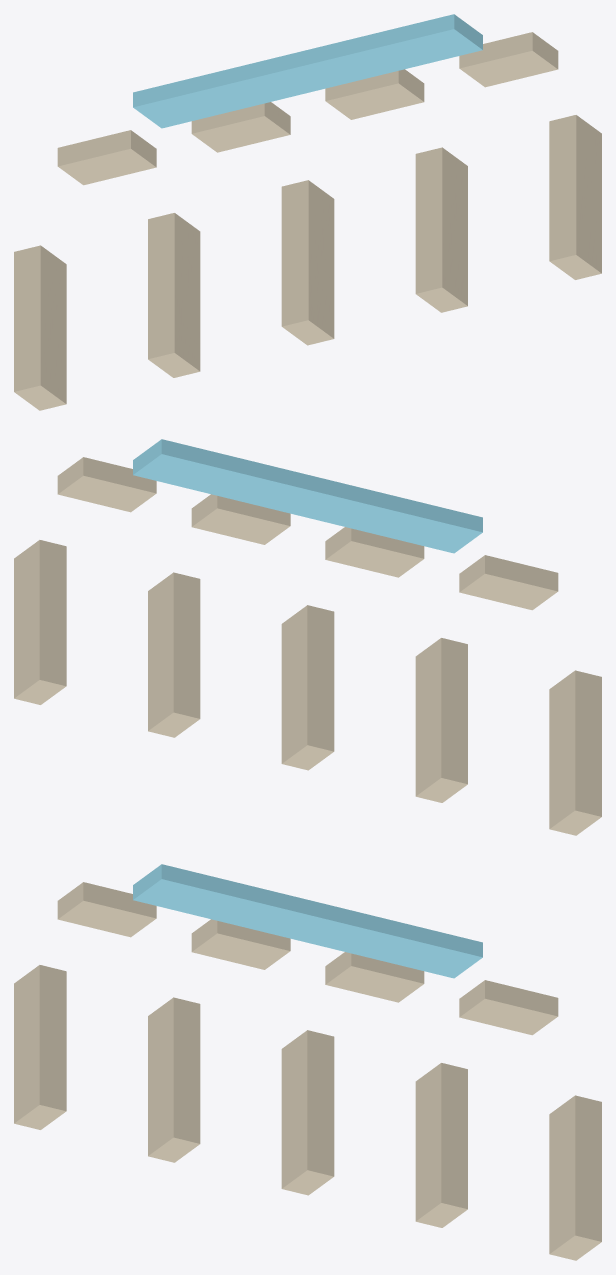
The model's file is aquaedukt-schematic.gltf.
The picture shows the model from 3 angles, top to bottom: view 1: azimuth 30°, elevation 25°; view 2: azimuth 150°, elevation 25°; view 3: azimuth 330°, elevation 25°; orthographic projection.
Parts seen in each view (by area): view 1: Water channel, Pier center, Pier west outer, Pier east inner, Pier east outer, Pier west inner, Span west outer, Span east outer, Span east inner, Span west inner; view 2: Water channel, Pier center, Pier west outer, Pier east inner, Pier east outer, Pier west inner, Span west outer, Span east outer, Span east inner, Span west inner; view 3: Water channel, Pier center, Pier west inner, Pier east outer, Pier west outer, Pier east inner, Span east outer, Span west outer, Span west inner, Span east inner.
Part boxes in pixels (x1=…): Water channel: x1=133, y1=14, x2=482, y2=128; Pier center: x1=281, y1=180, x2=334, y2=345; Pier west outer: x1=14, y1=245, x2=66, y2=410; Pier east inner: x1=415, y1=147, x2=467, y2=312; Pier east outer: x1=549, y1=115, x2=601, y2=279; Pier west inner: x1=148, y1=213, x2=200, y2=377; Span west outer: x1=57, y1=130, x2=156, y2=185; Span east outer: x1=459, y1=32, x2=558, y2=87; Span east inner: x1=325, y1=69, x2=424, y2=119; Span west inner: x1=191, y1=102, x2=290, y2=152; Water channel: x1=133, y1=439, x2=482, y2=553; Pier center: x1=281, y1=605, x2=334, y2=770; Pier west outer: x1=549, y1=670, x2=601, y2=835; Pier east inner: x1=148, y1=572, x2=200, y2=737; Pier east outer: x1=14, y1=540, x2=66, y2=704; Pier west inner: x1=415, y1=638, x2=467, y2=802; Span west outer: x1=459, y1=555, x2=558, y2=610; Span east outer: x1=57, y1=457, x2=156, y2=512; Span east inner: x1=191, y1=494, x2=290, y2=544; Span west inner: x1=325, y1=527, x2=424, y2=577; Water channel: x1=133, y1=864, x2=482, y2=978; Pier center: x1=281, y1=1030, x2=334, y2=1195; Pier west inner: x1=148, y1=997, x2=200, y2=1162; Pier east outer: x1=549, y1=1095, x2=601, y2=1260; Pier west outer: x1=14, y1=965, x2=66, y2=1129; Pier east inner: x1=415, y1=1063, x2=467, y2=1227; Span east outer: x1=459, y1=980, x2=558, y2=1035; Span west outer: x1=57, y1=882, x2=156, y2=937; Span west inner: x1=191, y1=919, x2=290, y2=969; Span east inner: x1=325, y1=952, x2=424, y2=1002.
Size of the model in its own units: 6.3 by 2.88 by 0.56.
